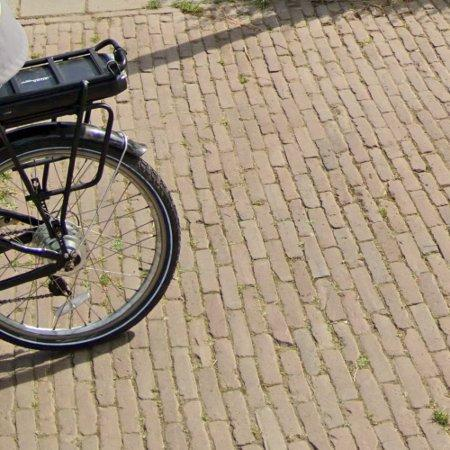bicycles: (0, 39, 180, 350)
